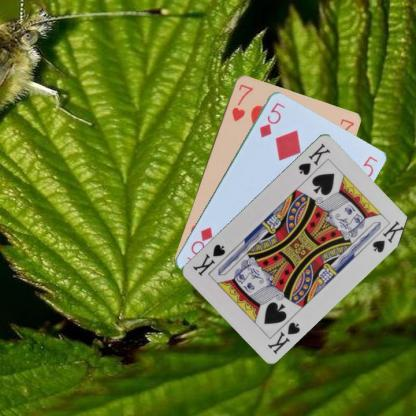5d: (257, 98, 286, 138)
7h: (229, 81, 254, 122)
Ks: (264, 318, 302, 355), (295, 140, 332, 176)
